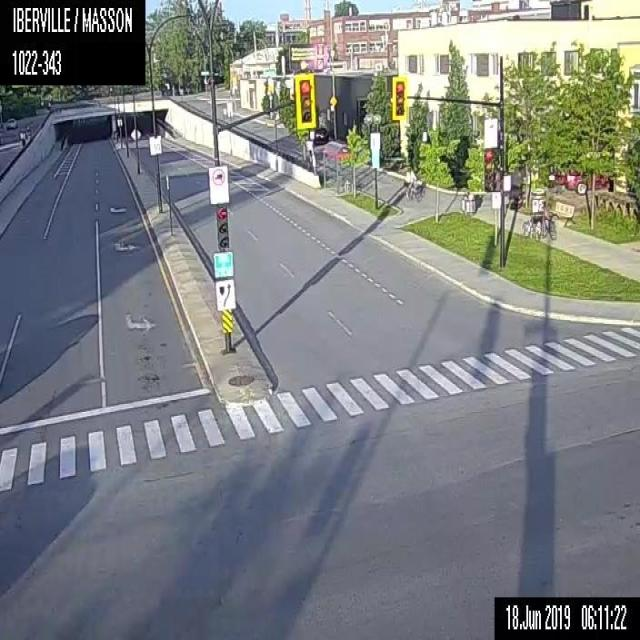cyclist: (404, 168, 420, 200)
vehicle: (313, 127, 327, 145)
